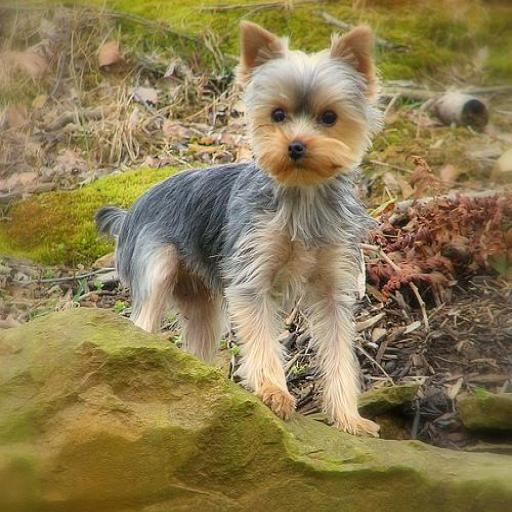dog_face: (228, 18, 392, 197)
